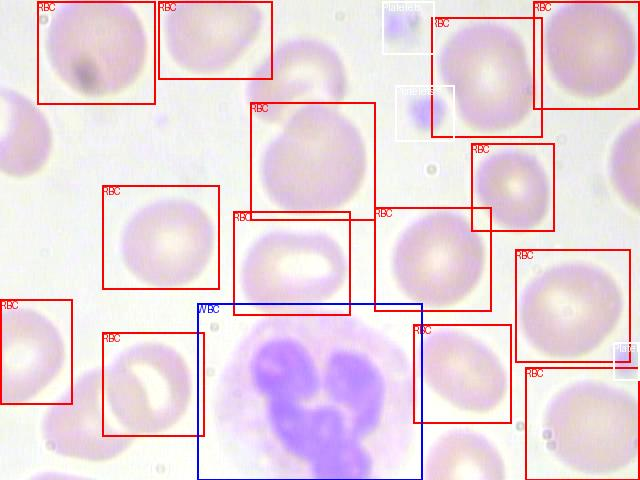Platelets: (395, 85, 454, 141), (382, 1, 434, 54), (613, 342, 639, 380)
RBC: (250, 102, 375, 220), (431, 17, 542, 137), (515, 249, 630, 362), (525, 367, 639, 480), (102, 185, 219, 289), (374, 207, 491, 311), (233, 211, 350, 315), (37, 1, 155, 104), (533, 1, 639, 109), (102, 332, 204, 436), (413, 324, 511, 423), (158, 1, 272, 79), (0, 299, 72, 404), (471, 143, 554, 231)
WBC: (197, 303, 422, 480)
